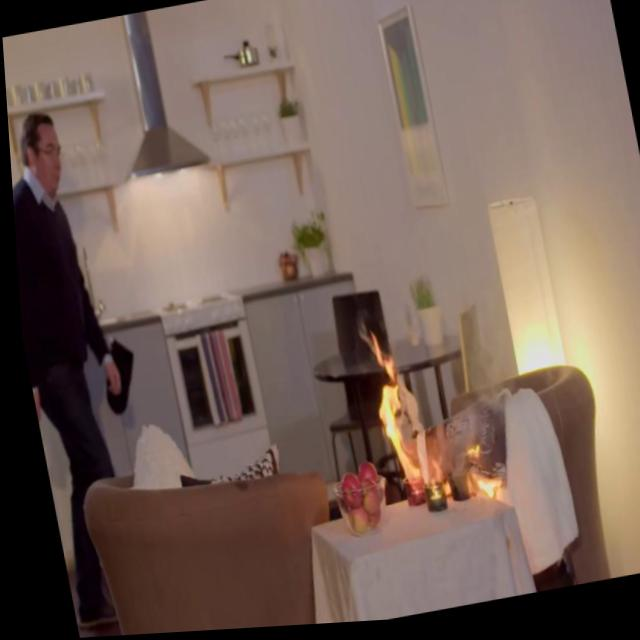fire: (355, 329, 416, 488)
